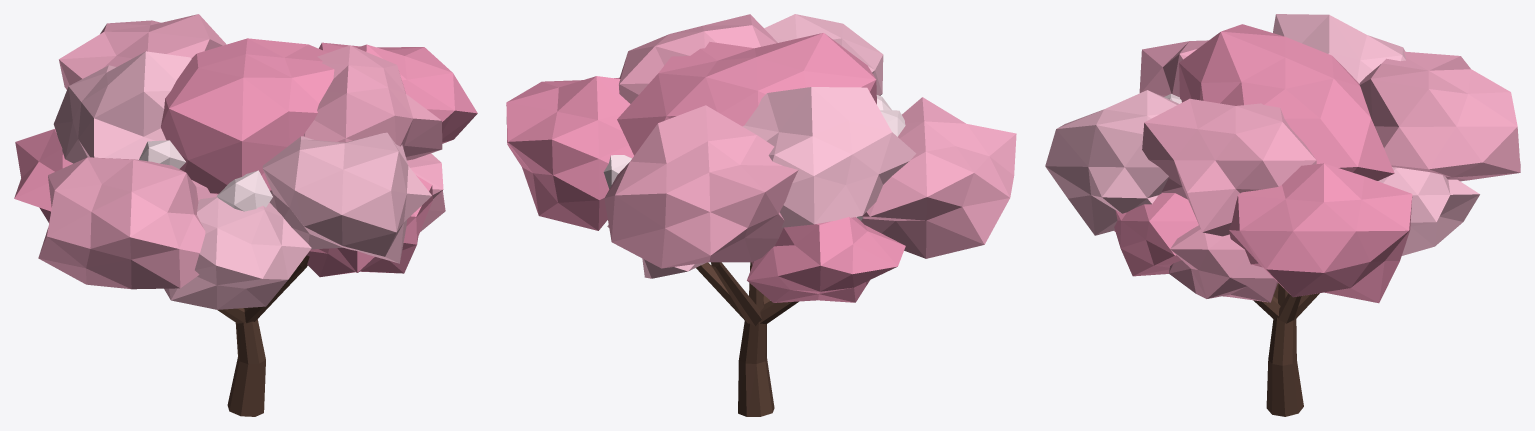
Rendered from TREE_08.obj.
3 renders of one model, left to right at view 1: azimuth 30°, elevation 25°; view 2: azimuth 150°, elevation 25°; view 3: azimuth 270°, elevation 25°, orthographic.
Visible parts, largest first — view 1: blossoms, trunk, branches; view 2: blossoms, trunk, branches; view 3: blossoms, trunk, branches.
Boxes of the visible parts, x1,y1,x2,y2 form: blossoms: (14,14,477,309); trunk: (227,319,265,416); branches: (217,255,309,323); blossoms: (506,14,1016,302); trunk: (738,321,774,416); branches: (696,262,798,326); blossoms: (1045,14,1520,303); trunk: (1266,317,1303,416); branches: (1253,283,1319,323).
Size of the model in its own units: 9.43 by 7.21 by 8.62.
